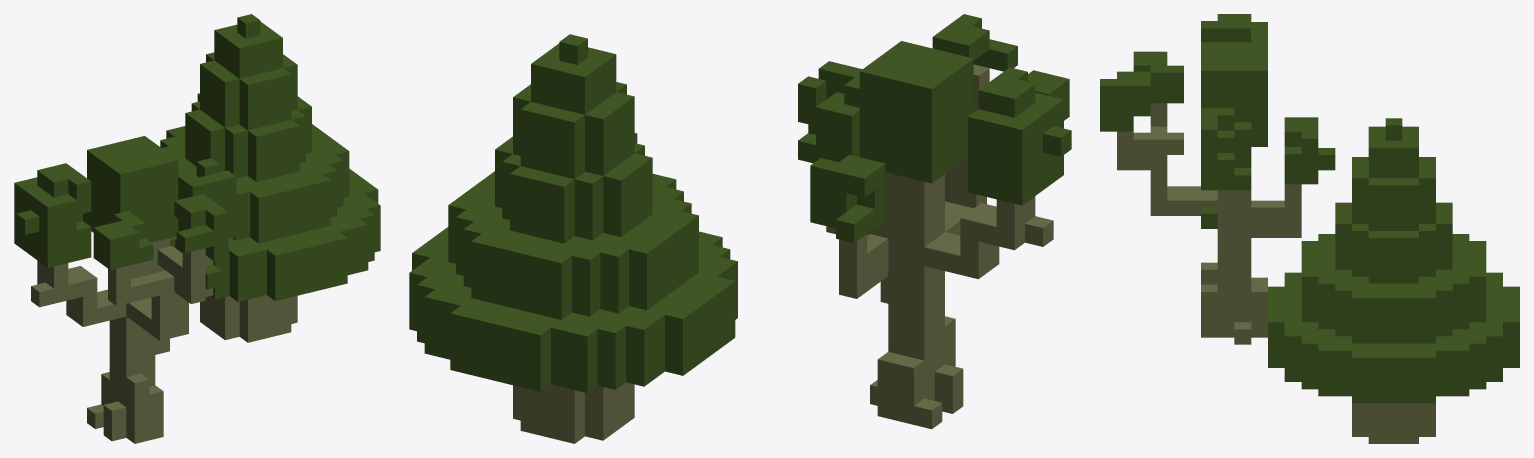
The picture shows the model from 3 angles, left to right: view 1: azimuth 30°, elevation 25°; view 2: azimuth 150°, elevation 25°; view 3: azimuth 270°, elevation 25°; orthographic projection. The views are drawn at different scales.
Parts seen in each view (by area): view 1: Object_2; view 2: Object_2; view 3: Object_2.
Boxes of the visible parts, box(x1,y1,x2,y2) form: Object_2: box(14, 14, 380, 443); Object_2: box(409, 14, 1071, 443); Object_2: box(1100, 14, 1519, 443).
Size of the model in its own units: 29 by 20 by 25.
Materials: 1 (1 with a texture image).
